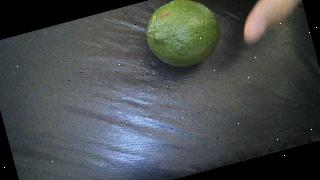DESECHO: (138, 0, 226, 74)
